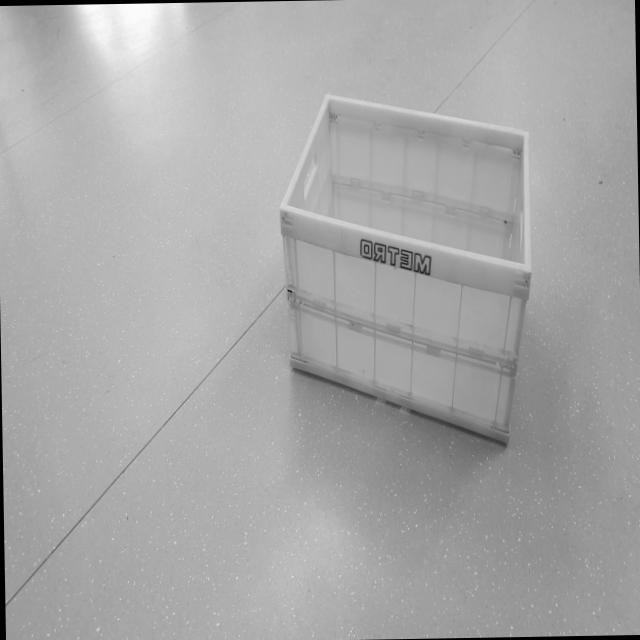box: (266, 62, 546, 456)
